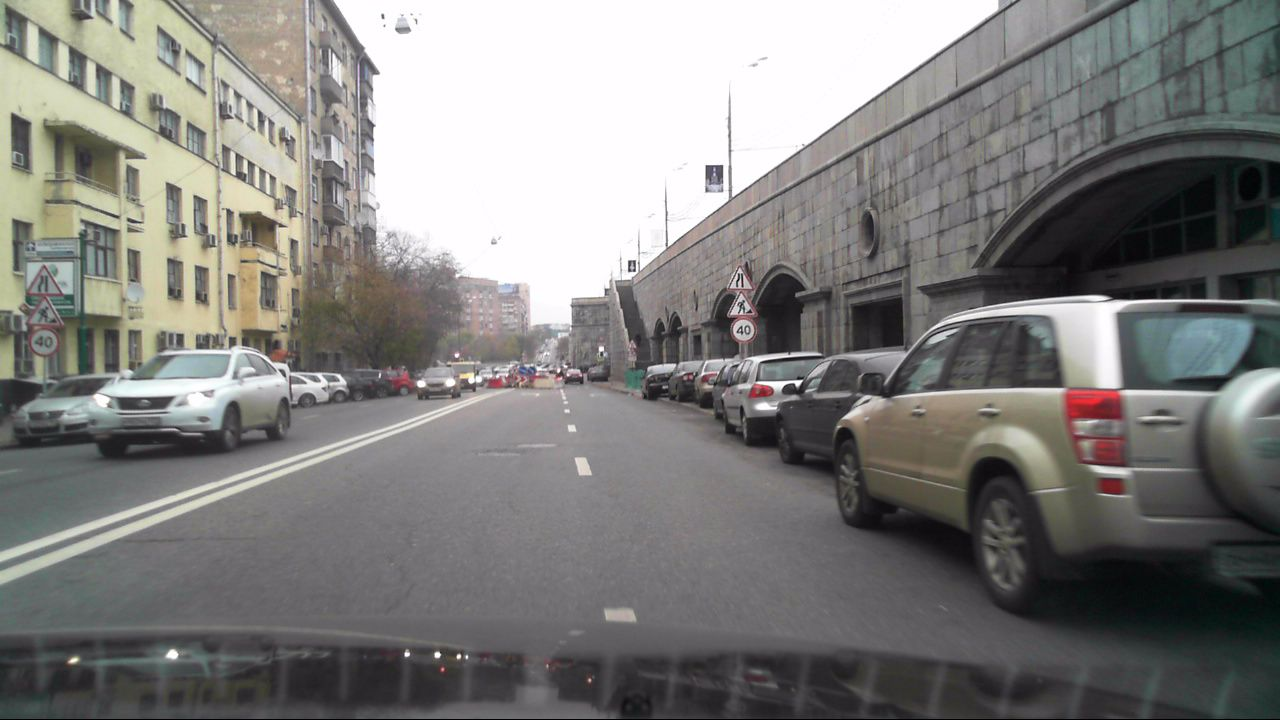speed_warning_40: (730, 317, 757, 342)
